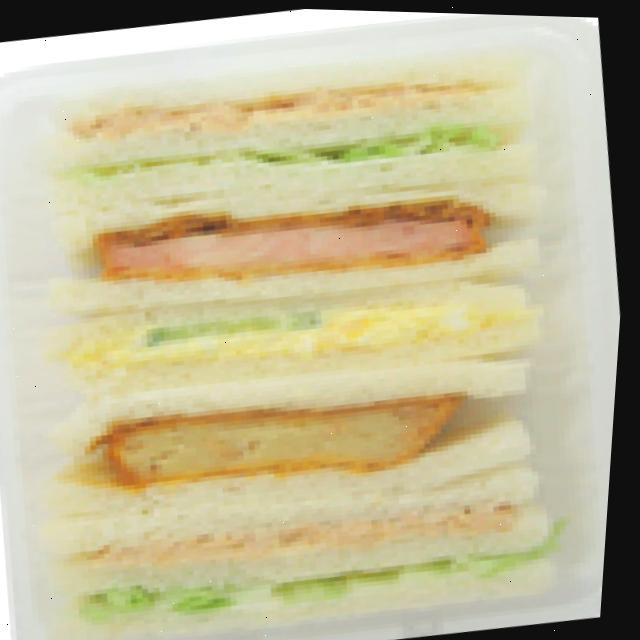三明治: (0, 17, 605, 639)
